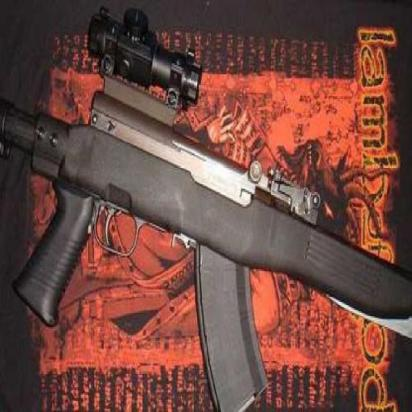Gun: (3, 18, 411, 408)
